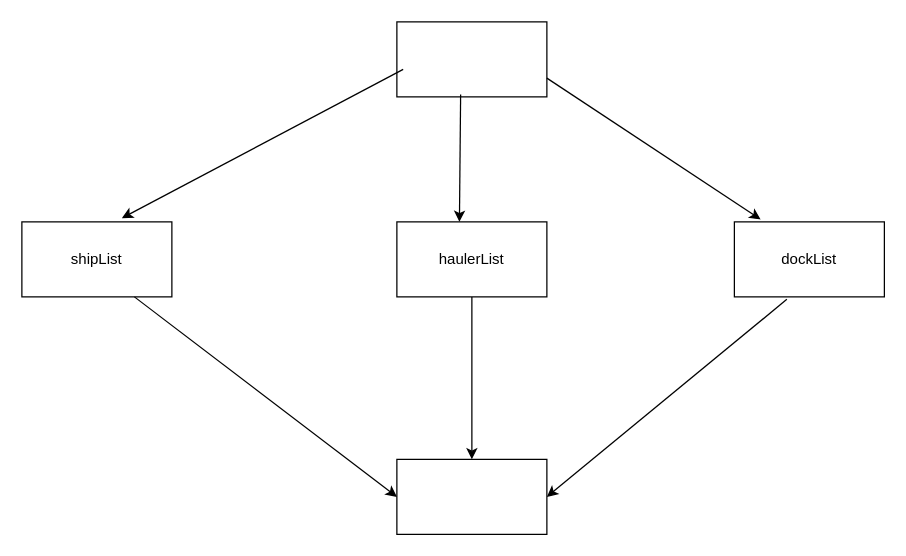
This 906x556 diagram has some shape labels left out. The shapes that lost their labels are listed below. From the top down, each one's centre as x and y in pixels, then its label:
point (471, 59): main
point (471, 496): database
